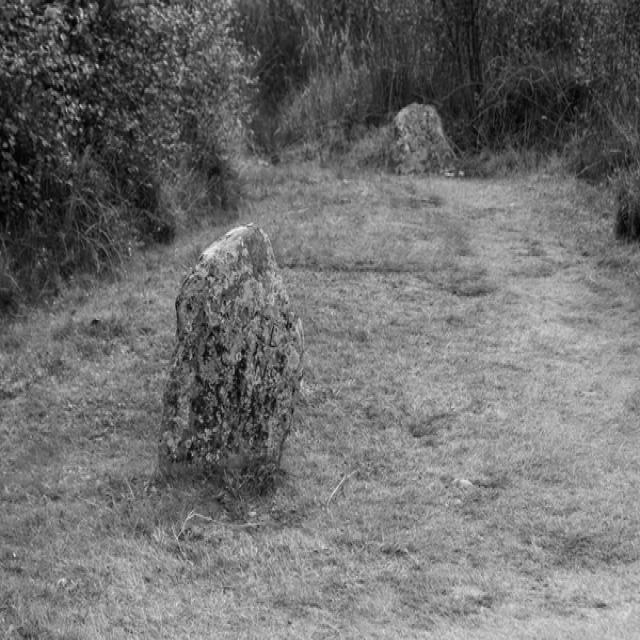Stone: (158, 226, 304, 474), (388, 102, 458, 173)
